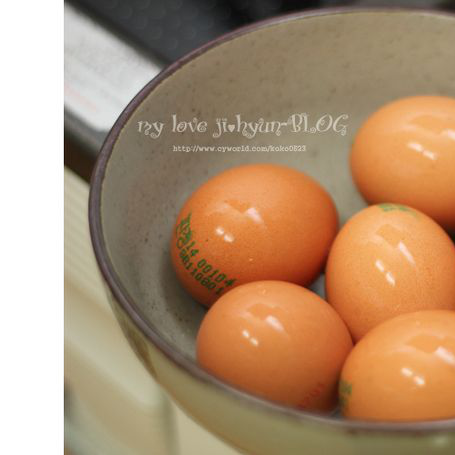egg: (169, 93, 455, 429)
